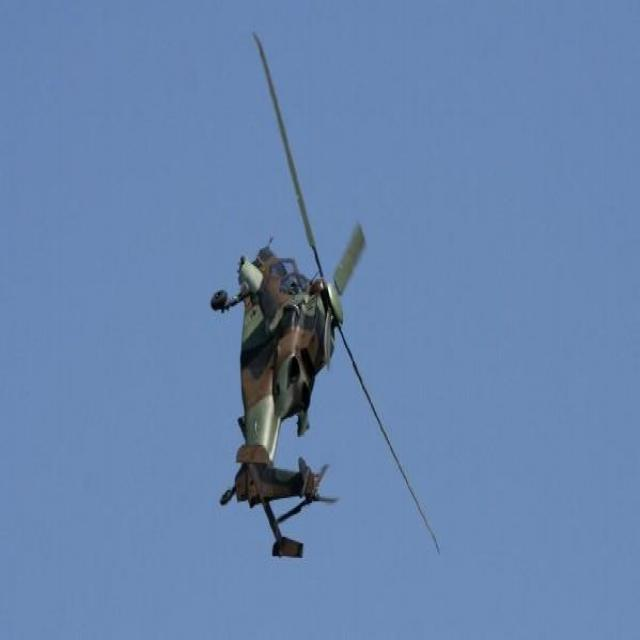MIL_HELO: (200, 22, 443, 570)
